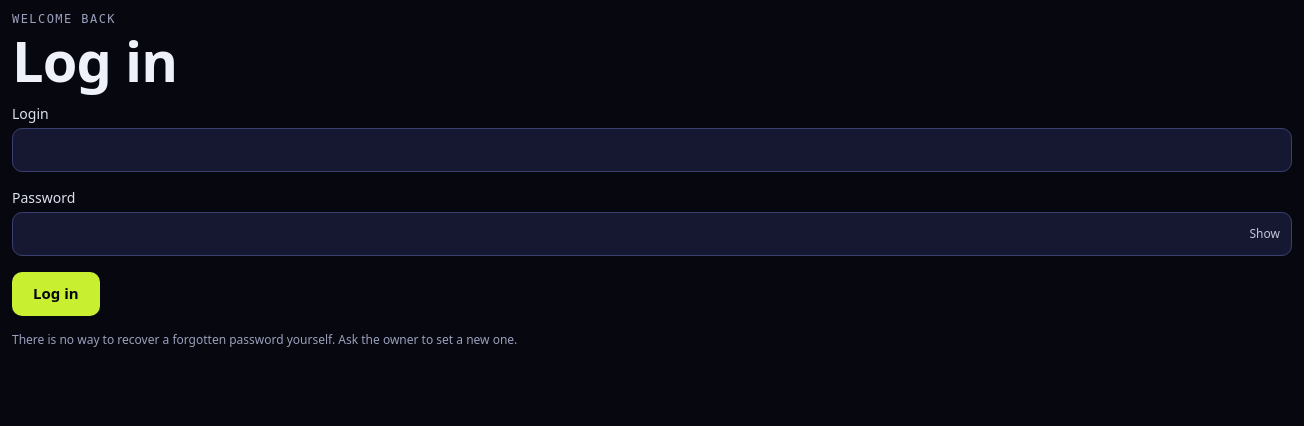
Test: query client after the browser reports offline › Log in still sends, fails and shows the unreachable-form banner; nothing is paused
Click the field labelled "Login": (652, 150) [12,128,1292,172]
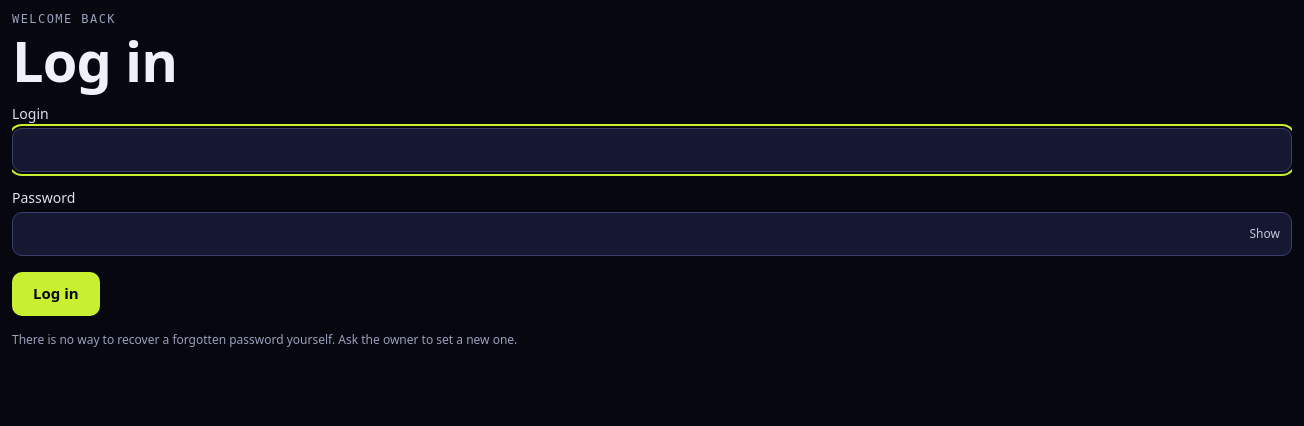
Type keys "chris"
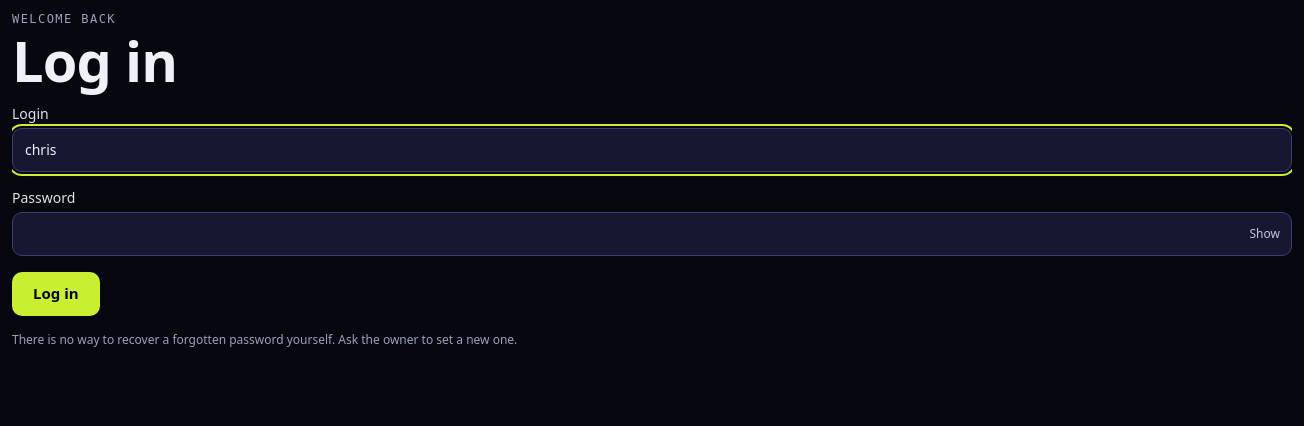
Click the password field labelled "Password": (652, 234) [12,212,1292,256]
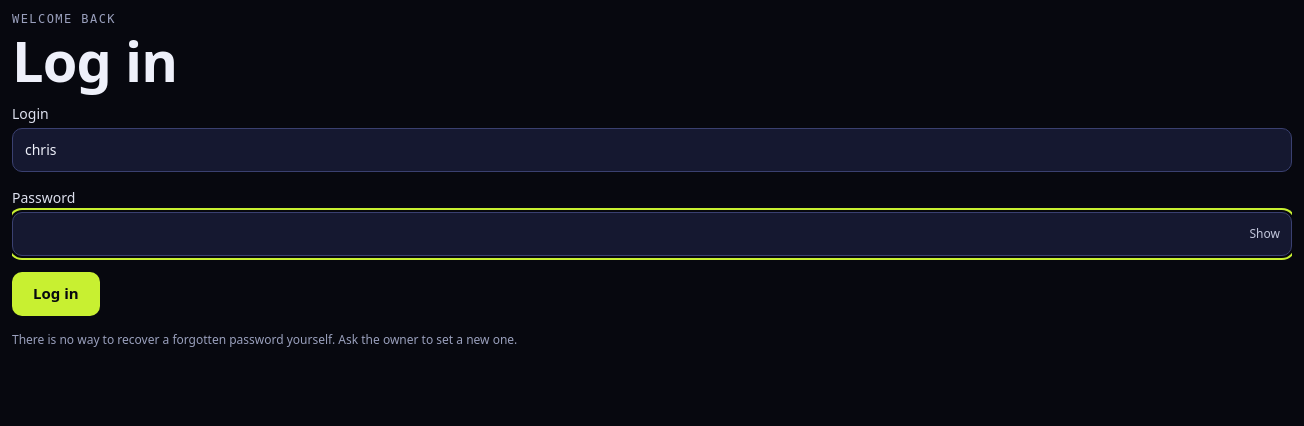
Type keys "a password"
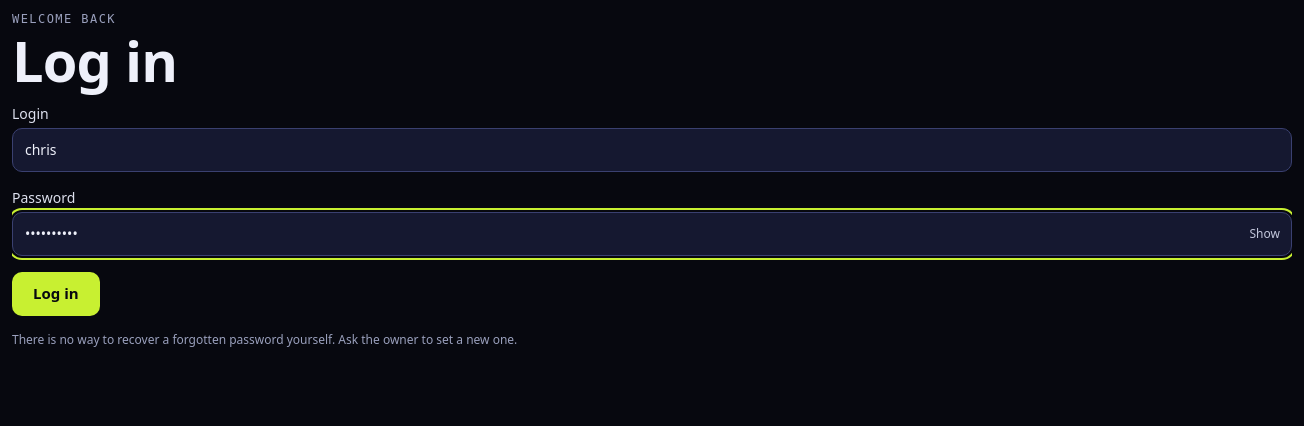
Click the button "Log in": (56, 294) [12,272,100,316]
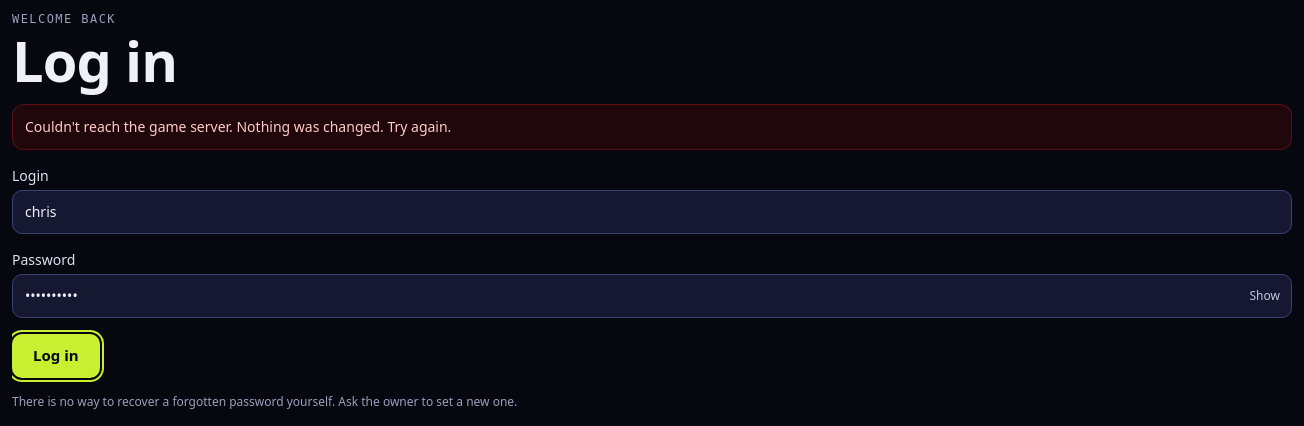
Expected: the message reads "Couldn't reach the game server. Nothing was changed. Try again.", [25,117,451,136]
